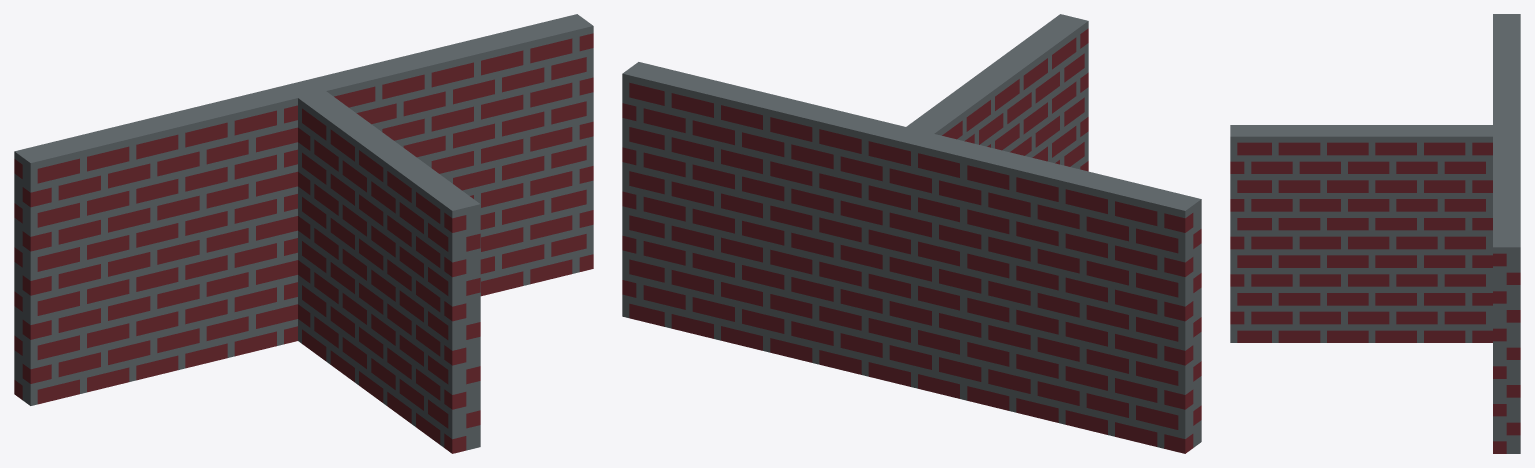
File: wall2_t2.obj
3 views of the same model, side by side, from view 1: azimuth 30°, elevation 25°; view 2: azimuth 150°, elevation 25°; view 3: azimuth 270°, elevation 25° (orthographic). The views are drawn at different scales.
Size of the model in its own units: 8 by 3.3 by 4.2.
Materials: 1 (1 with a texture image).
